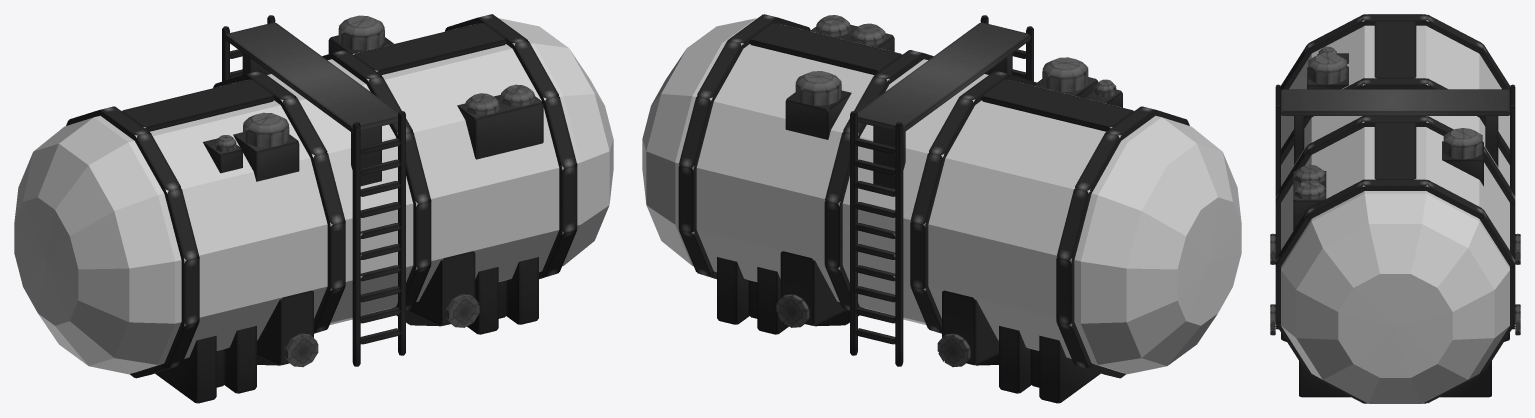
File: fuel_tank_big.obj
3 renders of one model, left to right at view 1: azimuth 30°, elevation 25°; view 2: azimuth 150°, elevation 25°; view 3: azimuth 270°, elevation 25°, orthographic. The views are drawn at different scales.
Parts seen in each view (by area): view 1: 1; view 2: 1; view 3: 1.
Boxes of the visible parts, x1,y1,x2,y2 form: 1: [14, 14, 613, 403]; 1: [642, 14, 1241, 403]; 1: [1270, 14, 1520, 403].
Bounding box in the file's own units: 6.66 × 3 × 3.01.
